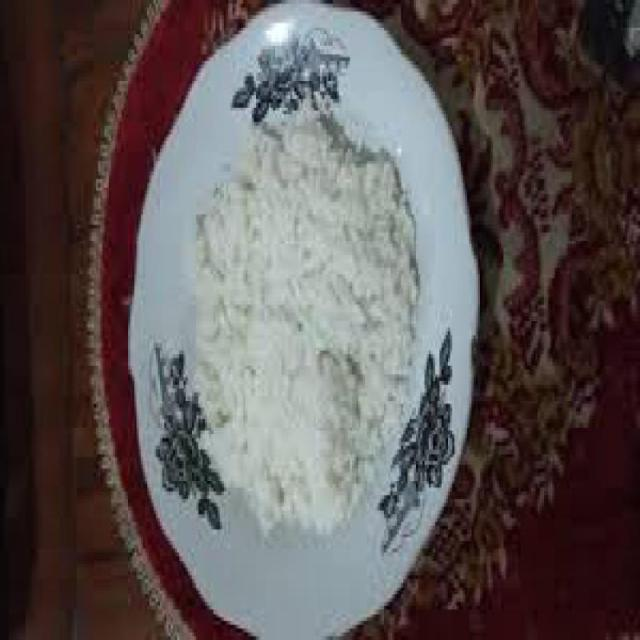nasi_putih: (194, 111, 417, 542)
